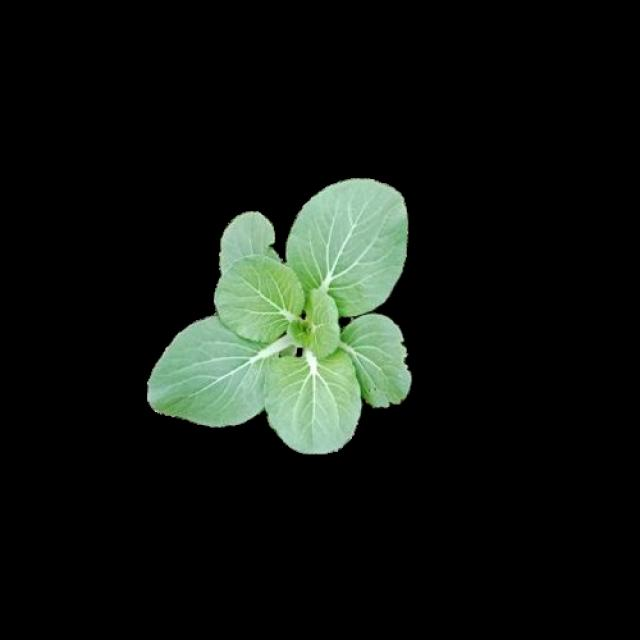healthy: (148, 175, 420, 452)
not-mature: (147, 177, 419, 453)
